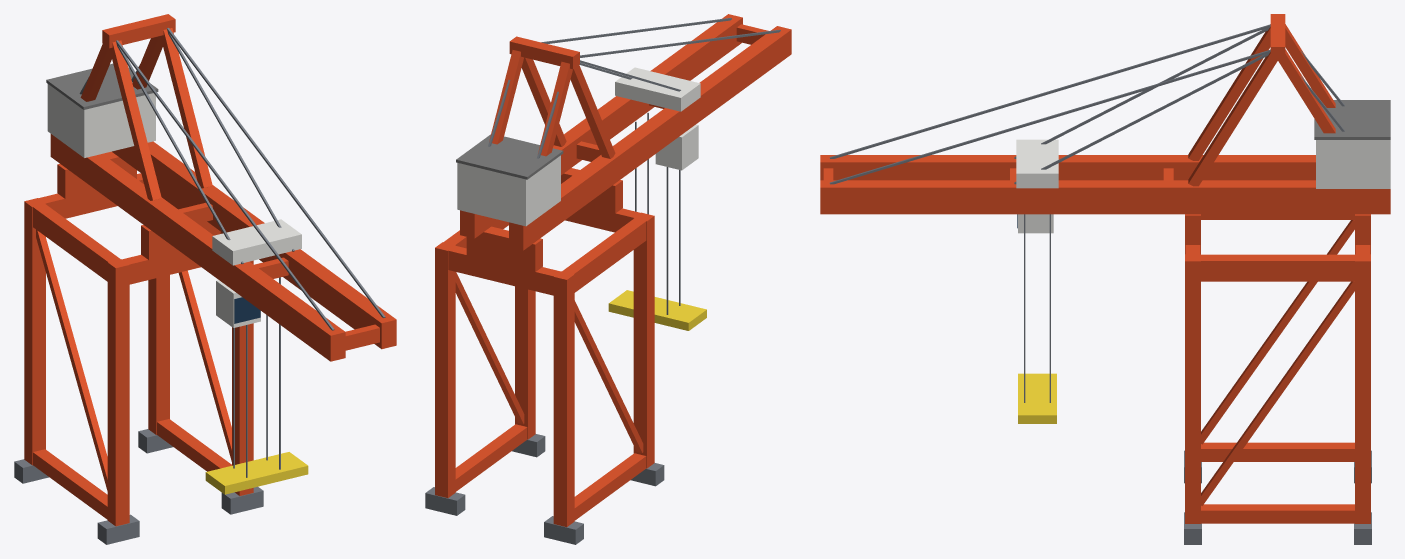
File: port_crane.fbx
3 renders of one model, left to right at view 1: azimuth 30°, elevation 25°; view 2: azimuth 150°, elevation 25°; view 3: azimuth 270°, elevation 25°, orthographic. The views are drawn at different scales.
Parts seen in each view (by area): view 1: a403_0_port_crane; view 2: a403_0_port_crane; view 3: a403_0_port_crane.
Part boxes in pixels (left/top/right/bottom): a403_0_port_crane: left=14, top=14, right=396, bottom=544; a403_0_port_crane: left=425, top=14, right=791, bottom=544; a403_0_port_crane: left=820, top=14, right=1390, bottom=544.
Bounding box in the file's own units: 11.4 × 32.4 × 35.2.
